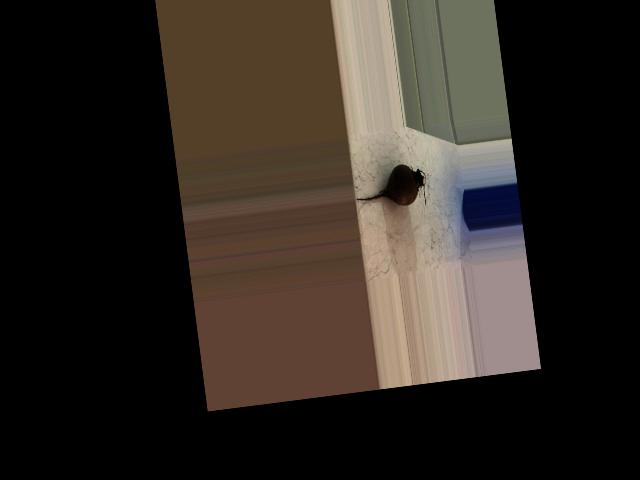beet: (352, 162, 429, 215)
